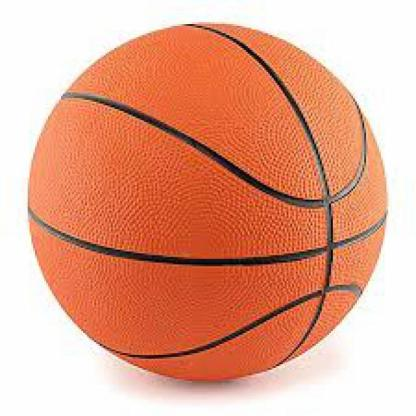basketball: (26, 22, 388, 379)
